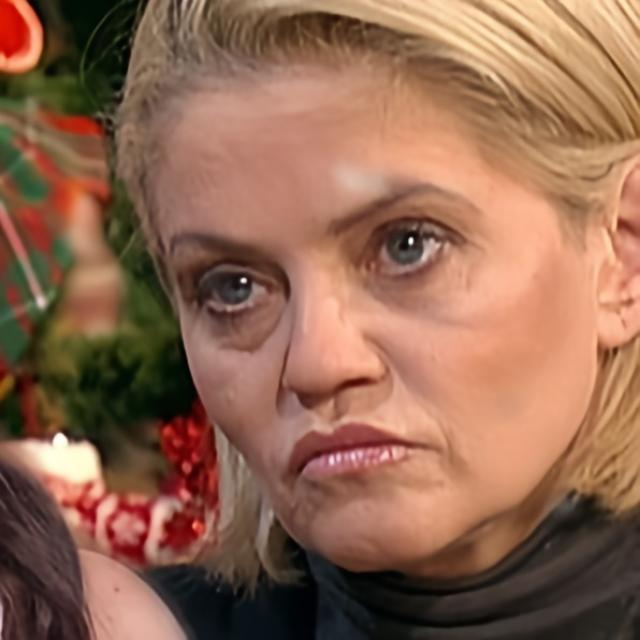anger: (168, 42, 594, 563)
